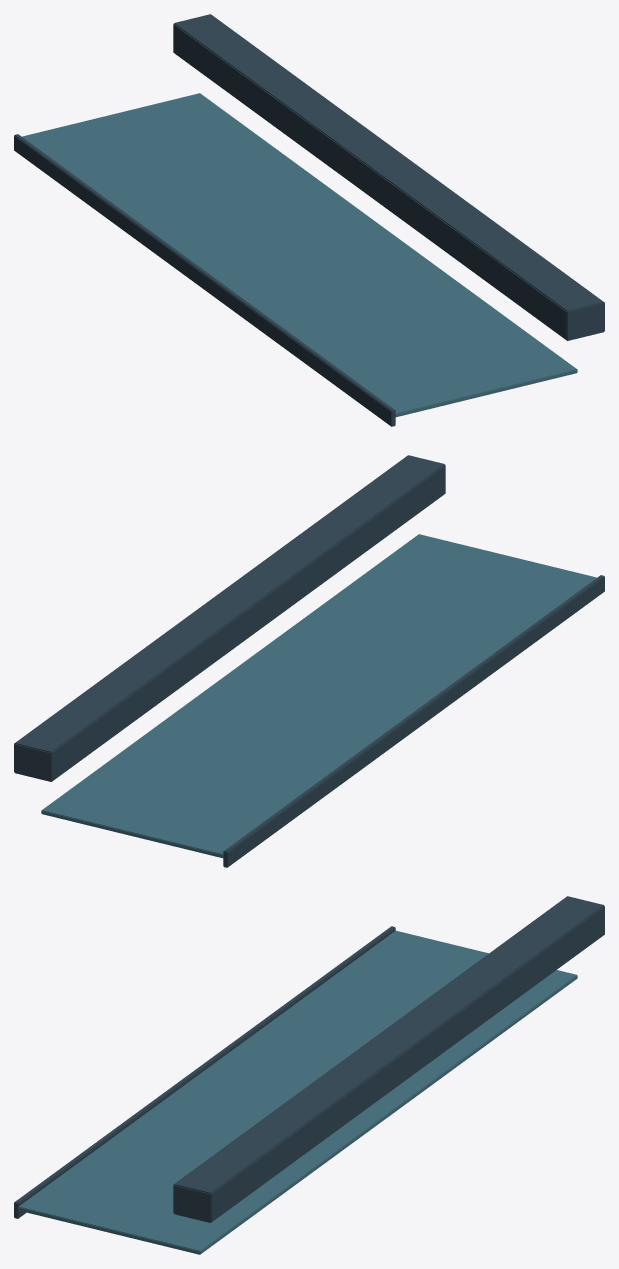
File: v02-detailed-05-07.glb
3 renders of one model, top to bottom at view 1: azimuth 30°, elevation 25°; view 2: azimuth 150°, elevation 25°; view 3: azimuth 330°, elevation 25°, orthographic.
Parts seen in each view (by area): view 1: v02-detailed-05-07; view 2: v02-detailed-05-07; view 3: v02-detailed-05-07.
Part boxes in pixels (left/top/right/bottom): v02-detailed-05-07: left=14, top=14, right=604, bottom=426; v02-detailed-05-07: left=14, top=455, right=604, bottom=867; v02-detailed-05-07: left=14, top=896, right=604, bottom=1254.
Bounding box in the file's own units: 4.28 × 1.61 × 14.2.
